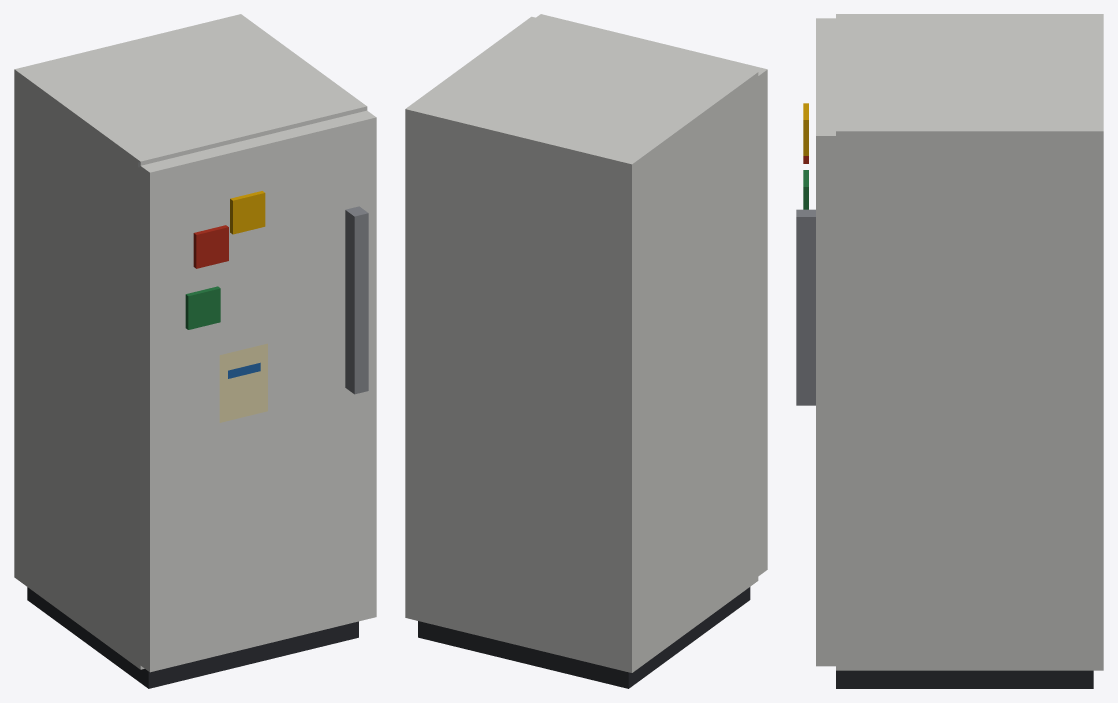
Rendered from prop_fridge.glb.
3 renders of one model, left to right at view 1: azimuth 30°, elevation 25°; view 2: azimuth 150°, elevation 25°; view 3: azimuth 270°, elevation 25°, orthographic. The views are drawn at different scales.
Parts seen in each view (by area): view 1: body; view 2: body; view 3: body.
Part boxes in pixels (x1,y1,x2,y2): body: (14, 14, 376, 688); body: (405, 14, 767, 688); body: (796, 14, 1103, 688).
Bounding box in the file's own units: 0.564 × 1.25 × 0.62.
